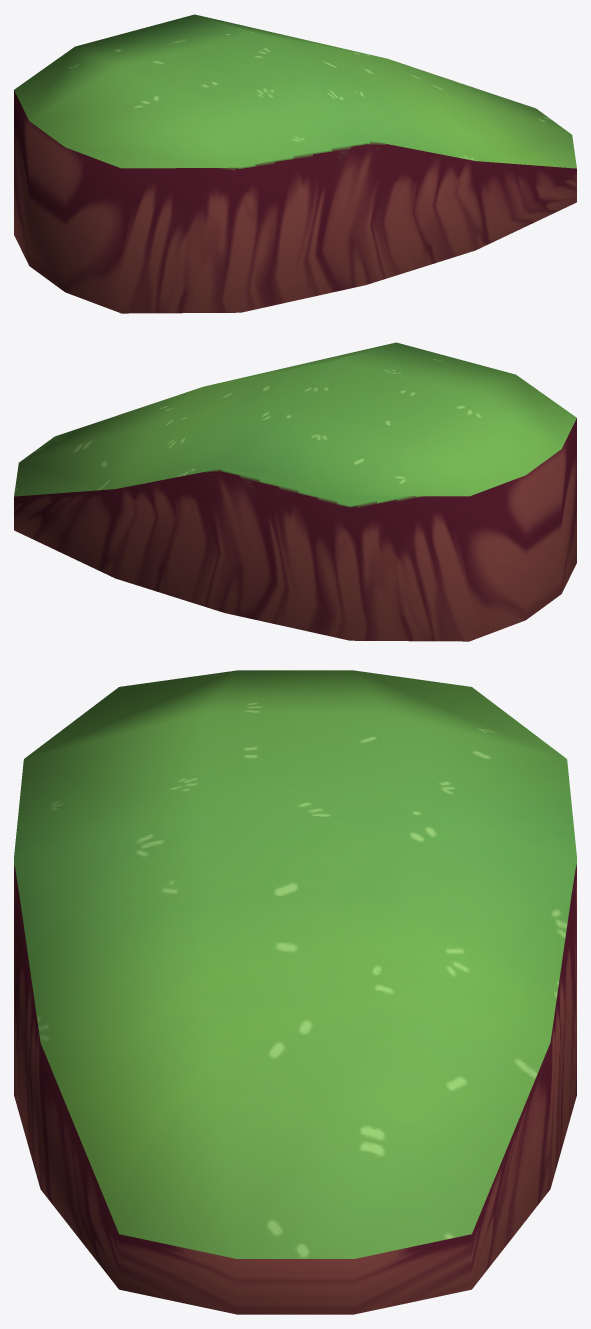
Rendered from island_06.gltf.
3 views of the same model, one above another, from view 1: azimuth 30°, elevation 25°; view 2: azimuth 150°, elevation 25°; view 3: azimuth 270°, elevation 25° (orthographic). The views are drawn at different scales.
Visible parts, largest first — view 1: Island06Mesh -col; view 2: Island06Mesh -col; view 3: Island06Mesh -col.
Part boxes in pixels (left/top/right/bottom): Island06Mesh -col: left=14, top=14, right=576, bottom=313; Island06Mesh -col: left=14, top=342, right=576, bottom=641; Island06Mesh -col: left=14, top=670, right=576, bottom=1314.
Bounding box in the file's own units: 5.36 × 1.69 × 3.14.
Materials: 1 (1 with a texture image).
